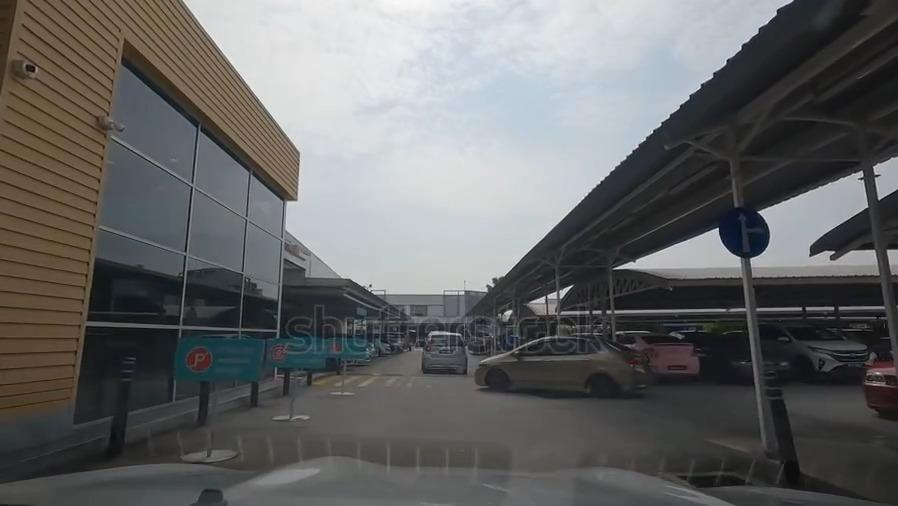car: (478, 340, 647, 392), (769, 321, 877, 378), (702, 330, 790, 381), (623, 332, 701, 383), (860, 360, 898, 415), (421, 331, 467, 375)
manhole: (673, 467, 756, 491)
pedestrian: (309, 378, 508, 391)
speedbump: (337, 369, 484, 379)
